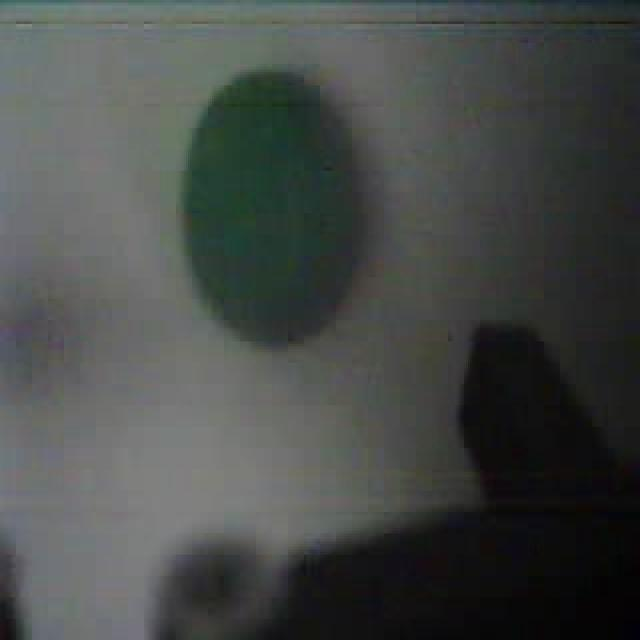green_ball: (178, 64, 364, 347)
